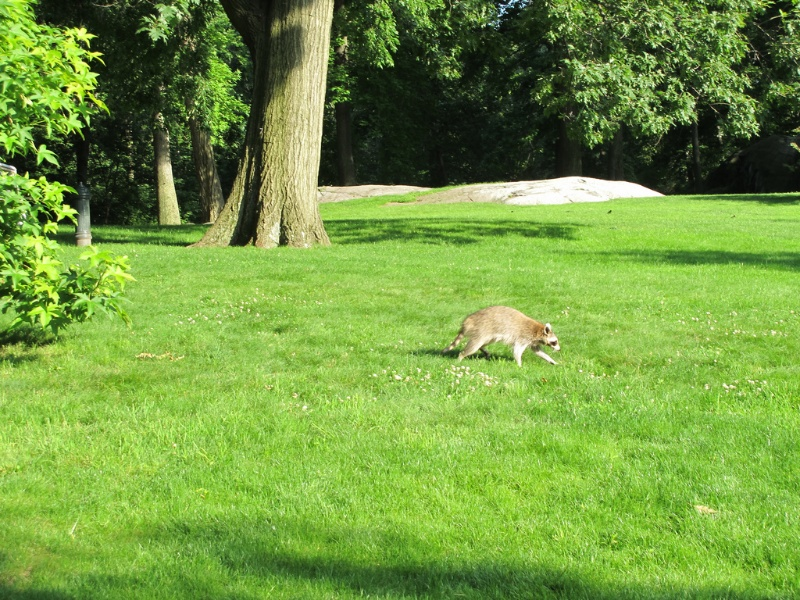raccoon: (446, 304, 565, 369)
